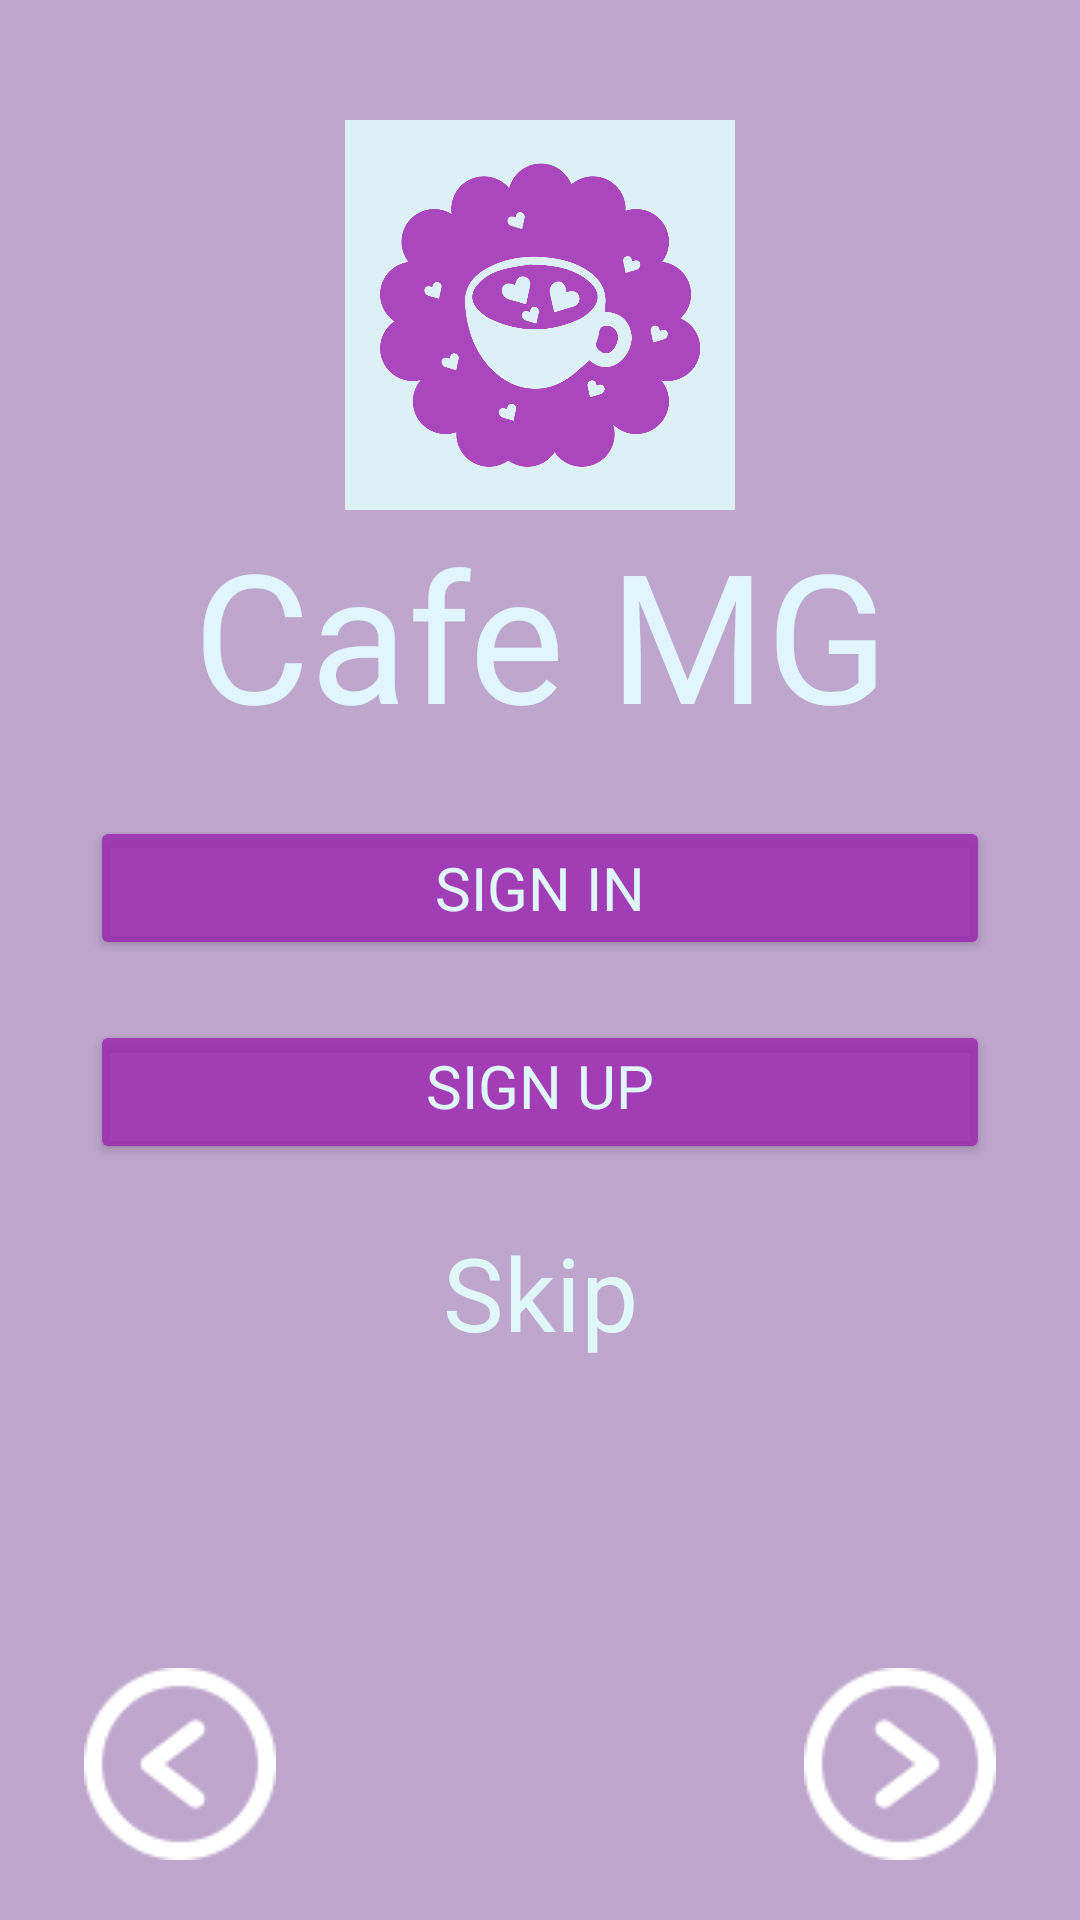

Icons on this 1080px x 1920px Android screen, each with the point to tap as point (x, y):
arrow: point (900, 1764)
